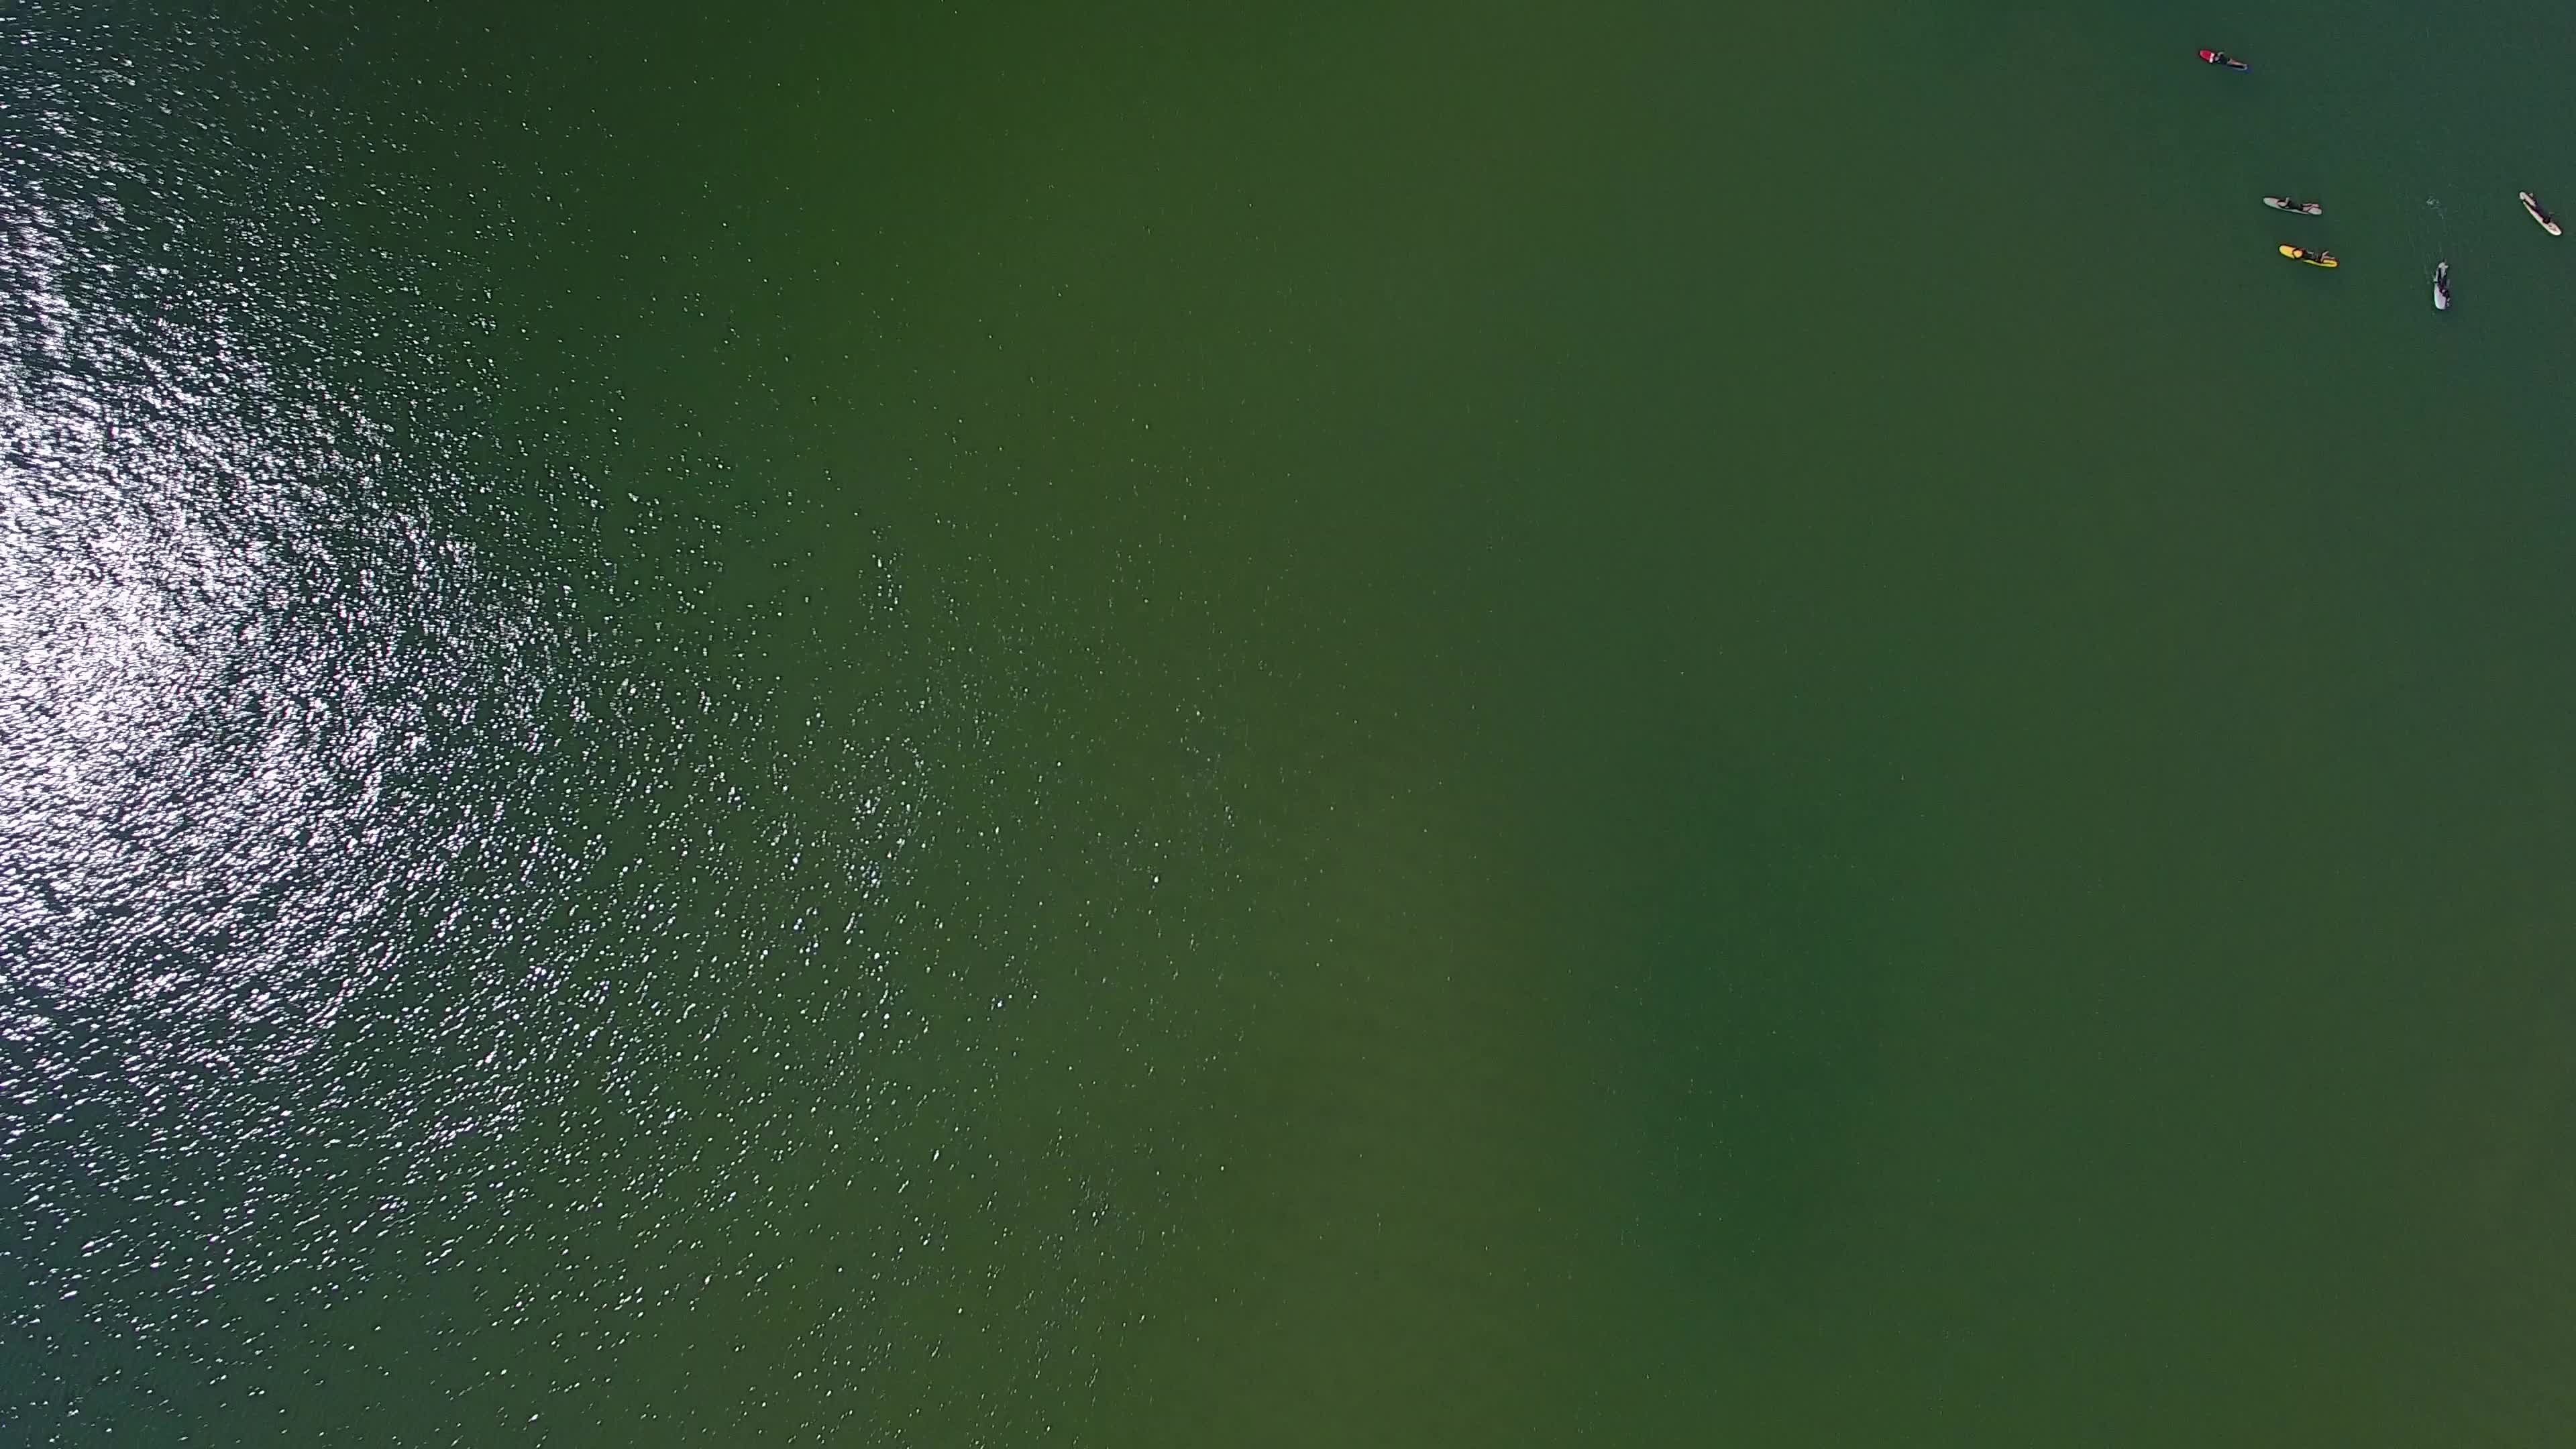surfer: (2498, 179, 2564, 241), (2424, 255, 2461, 322), (2261, 193, 2332, 225), (2277, 242, 2346, 272), (2196, 44, 2250, 73)
